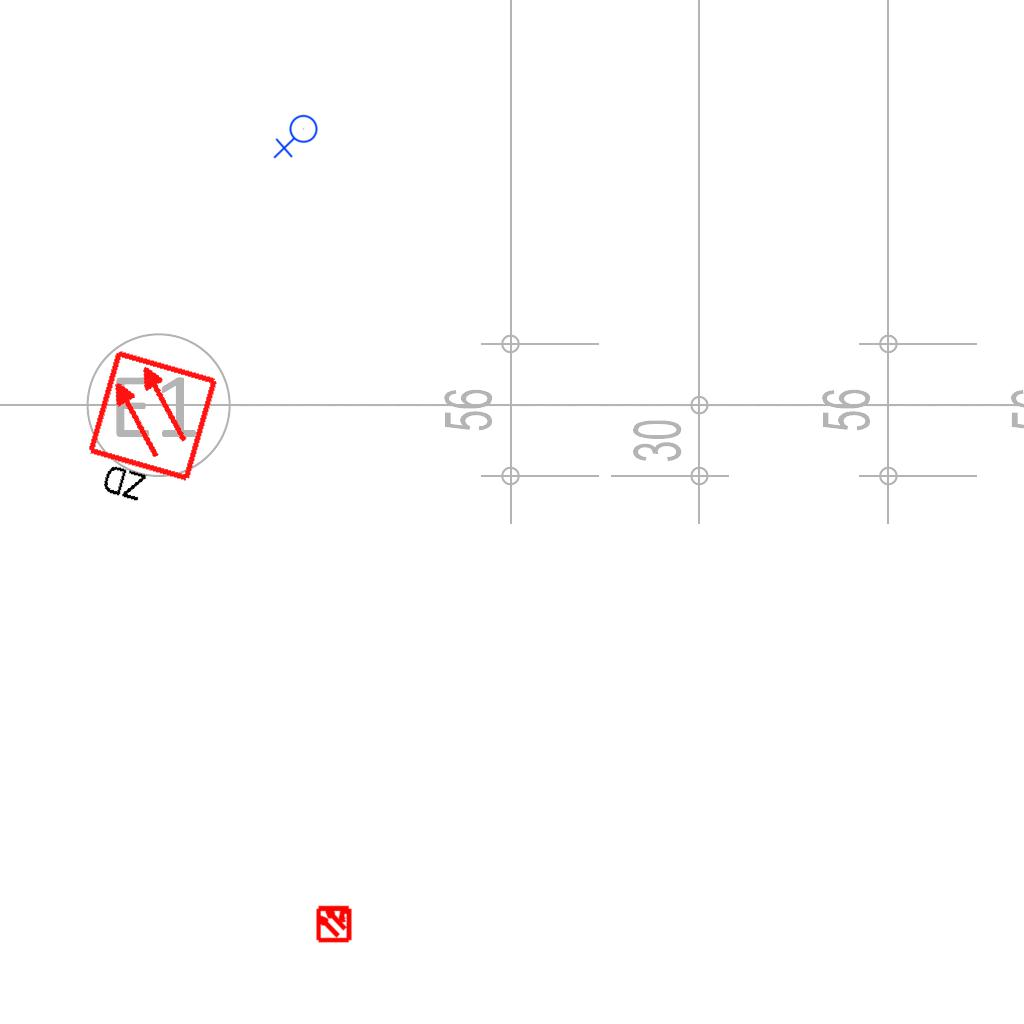Elektroanschluss_allgemein_230V_Geraeteanschlussdose_230V: (273, 114, 322, 161)
OT_Multisensormelder_(Kombination_RMO_WMD): (306, 895, 362, 951)
ZD_Melder_in_Zwischendecke_mit_Revisionsoeffnung_mind_40_x_40_cm: (73, 347, 225, 522)
